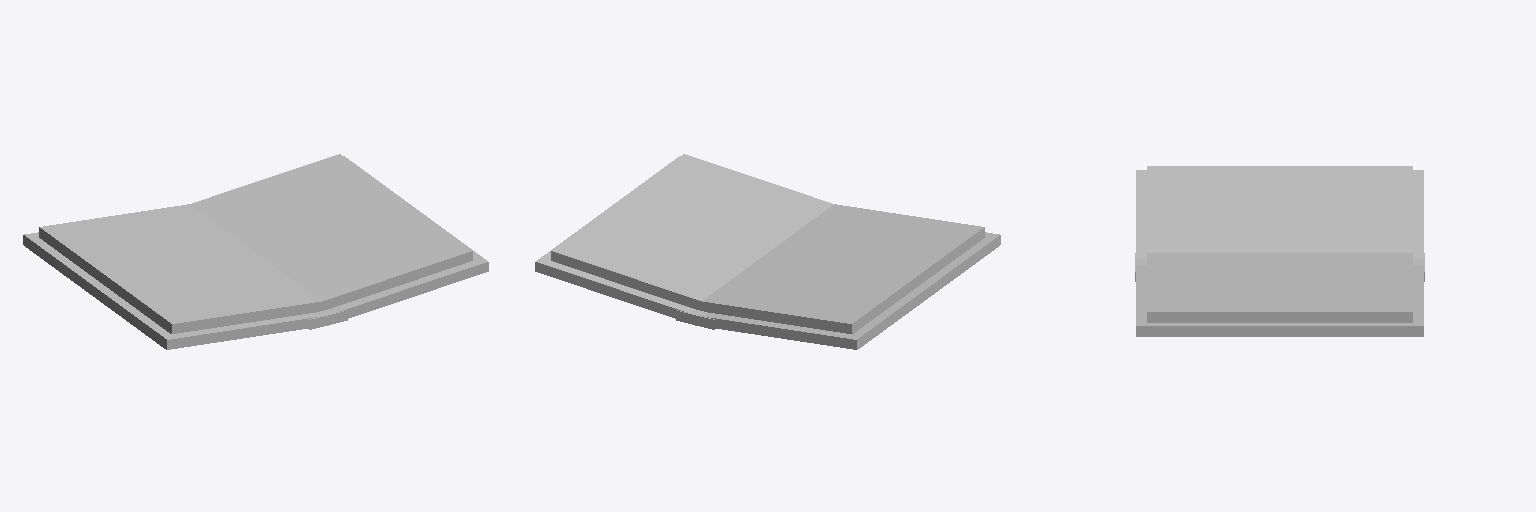
Rendered from leatherbook.obj.
The picture shows the model from 3 angles: view 1: azimuth 30°, elevation 25°; view 2: azimuth 150°, elevation 25°; view 3: azimuth 270°, elevation 25°; orthographic projection.
Parts seen in each view (by area): view 1: cube.000, cube.001, cube, cube.002; view 2: cube.000, cube.001, cube, cube.002; view 3: cube.001, cube.000, cube.002, cube.
Boxes of the visible parts, box(x1,y1,x2,y2) form: cube.000: box(190, 154, 472, 309); cube.001: box(39, 204, 324, 333); cube: box(23, 232, 328, 349); cube.002: box(329, 156, 488, 318); cube.000: box(551, 154, 833, 309); cube.001: box(699, 204, 984, 333); cube: box(695, 232, 1000, 349); cube.002: box(535, 156, 694, 318); cube.001: box(1147, 166, 1412, 252); cube.000: box(1147, 253, 1412, 322); cube.002: box(1136, 265, 1423, 336); cube: box(1136, 170, 1423, 258).
Bounding box in the file's own units: 16.84 × 1.69 × 13.1.